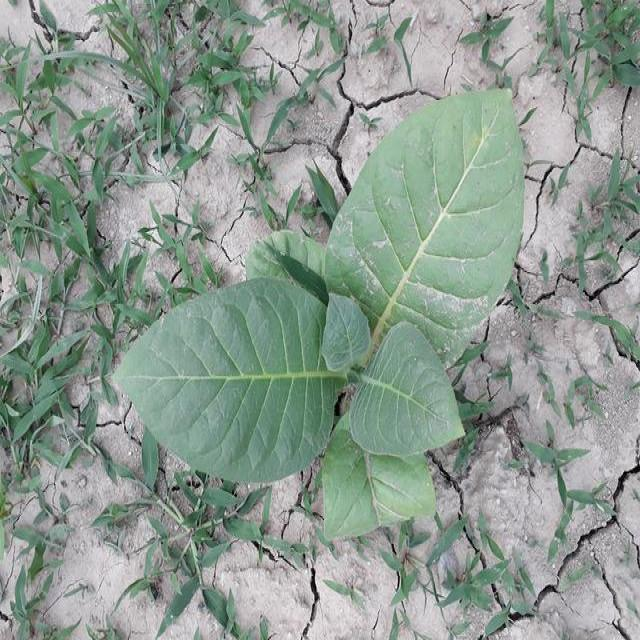crop: (109, 87, 536, 534)
